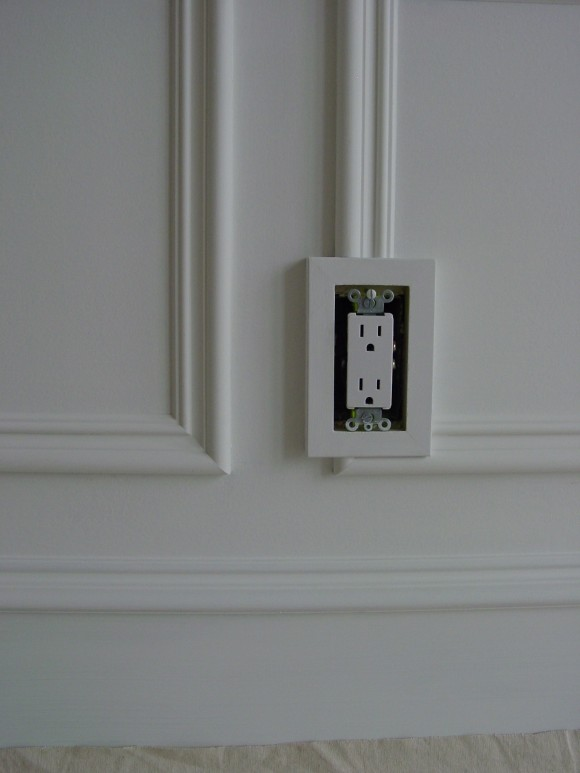outlet: (357, 318, 388, 353), (356, 373, 383, 408)
